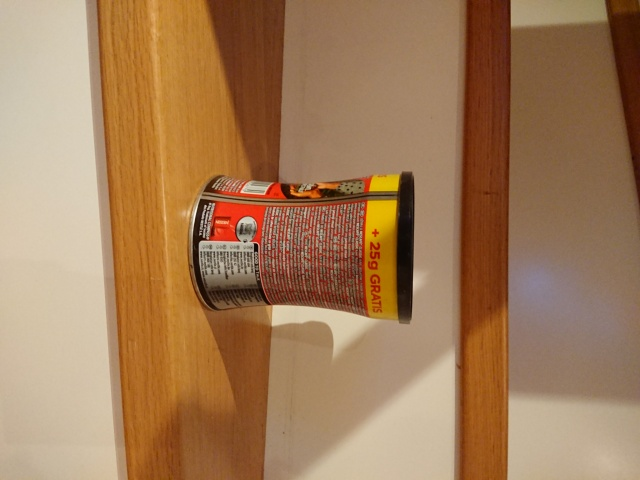Nescafe Classic 225g: (183, 167, 418, 327)
